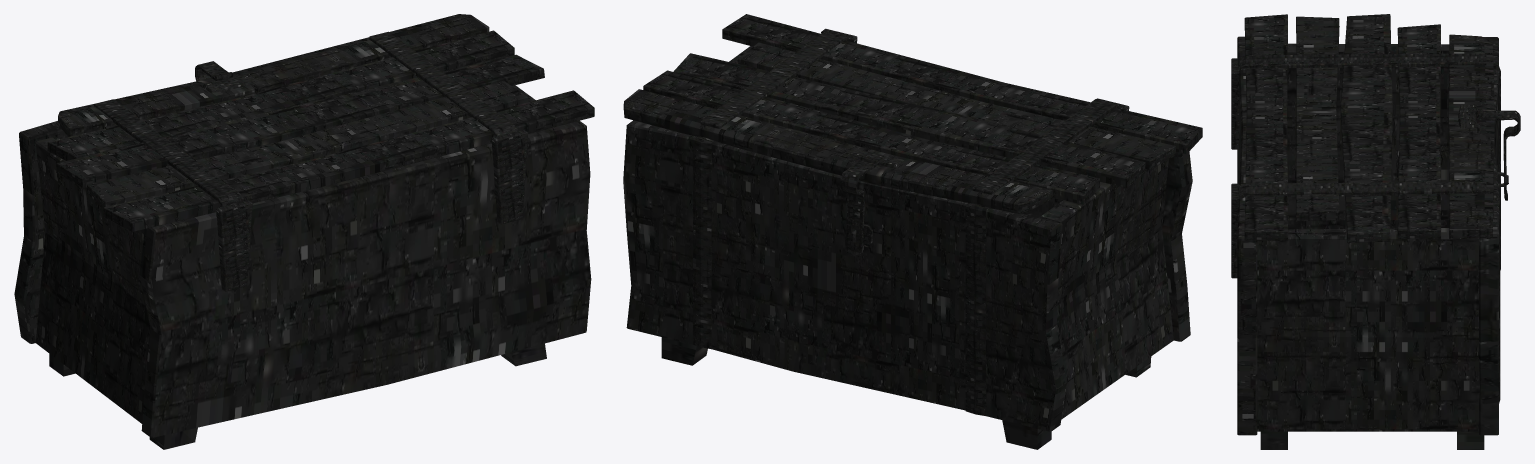
Rendered from 1_BURNT_01_24-transformed.glb.
3 views of the same model, side by side, from view 1: azimuth 30°, elevation 25°; view 2: azimuth 150°, elevation 25°; view 3: azimuth 270°, elevation 25° (orthographic). The views are drawn at different scales.
Visible parts, largest first — view 1: default; view 2: default; view 3: default.
Part boxes in pixels (x1,y1,x2,y2): default: (14, 14, 594, 449); default: (623, 14, 1202, 449); default: (1231, 14, 1520, 449).
Size of the model in its own units: 1.29 by 0.6556 by 0.7133.
1 material, 1 textured.
